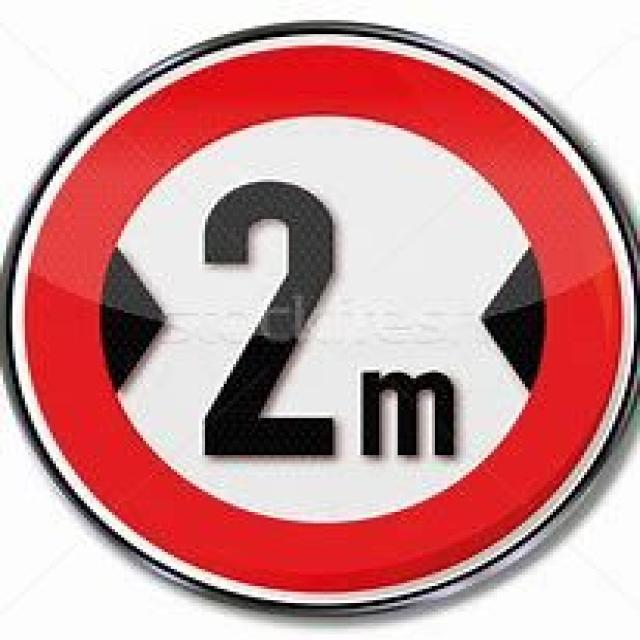width limit: (22, 40, 623, 593)
